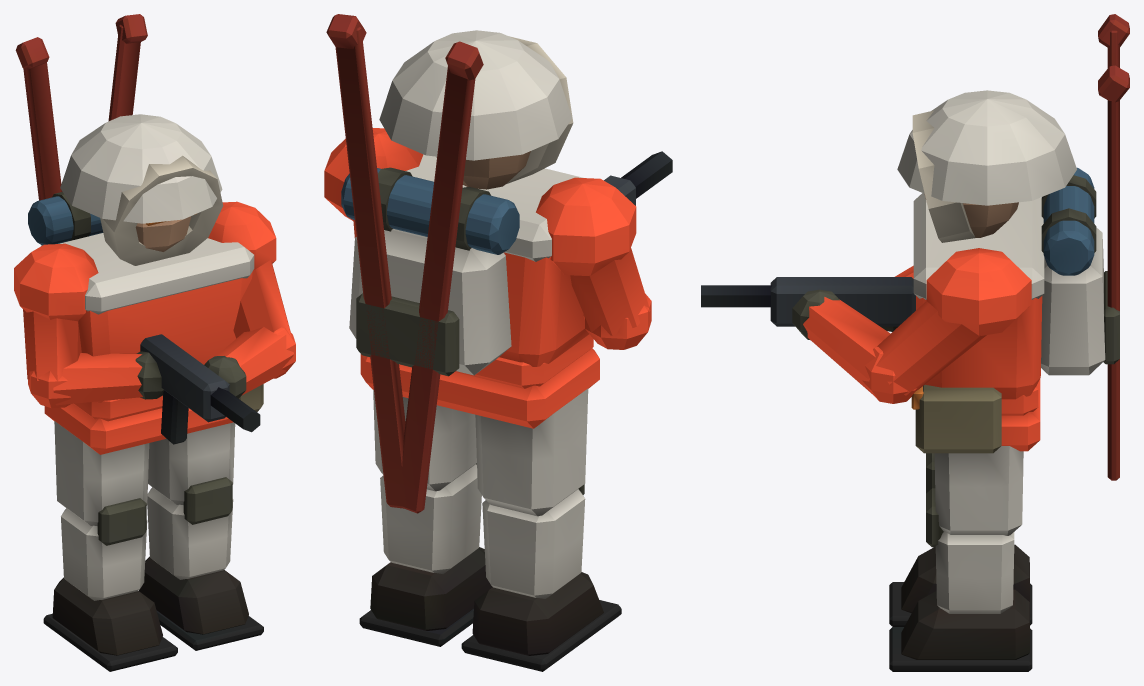
The model's file is raider.glb.
The picture shows the model from 3 angles, left to right: view 1: azimuth 30°, elevation 25°; view 2: azimuth 150°, elevation 25°; view 3: azimuth 270°, elevation 25°; orthographic projection. The views are drawn at different scales.
Parts seen in each view (by area): view 1: geo_torso, geo_leg_right, geo_leg_left, geo_arm_right, geo_arm_left; view 2: geo_torso, geo_leg_right, geo_leg_left, geo_arm_right; view 3: geo_torso, geo_leg_left, geo_arm_left, geo_leg_right.
Boxes of the visible parts, left/top/right/bottom form: geo_torso: left=14, top=14, right=276, bottom=454; geo_leg_right: left=43, top=421, right=177, bottom=671; geo_leg_left: left=139, top=422, right=263, bottom=650; geo_arm_right: left=23, top=309, right=164, bottom=408; geo_arm_left: left=204, top=260, right=295, bottom=398; geo_torso: left=324, top=14, right=672, bottom=513; geo_leg_right: left=461, top=388, right=621, bottom=671; geo_leg_left: left=359, top=389, right=492, bottom=646; geo_arm_right: left=570, top=248, right=651, bottom=349; geo_torso: left=701, top=14, right=1129, bottom=480; geo_leg_left: left=889, top=446, right=1032, bottom=671; geo_arm_left: left=792, top=289, right=986, bottom=403; geo_leg_right: left=889, top=453, right=1032, bottom=626.
Size of the model in its own units: 1.53 by 3.19 by 2.1.
